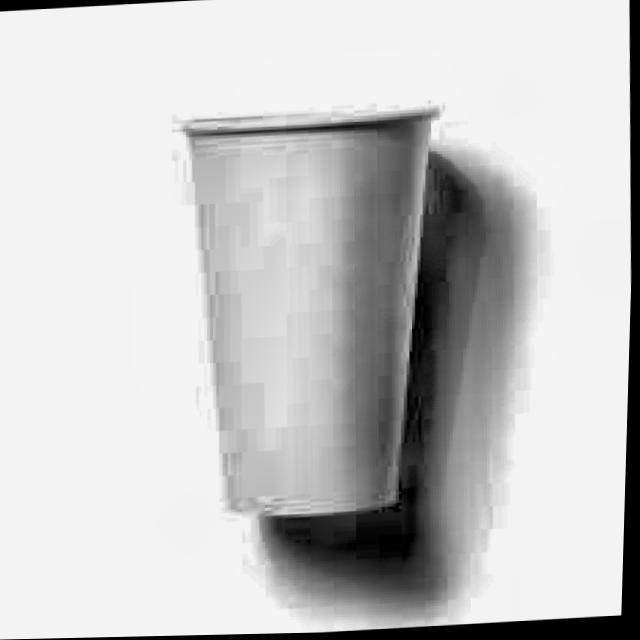Cup: (162, 86, 463, 543)
